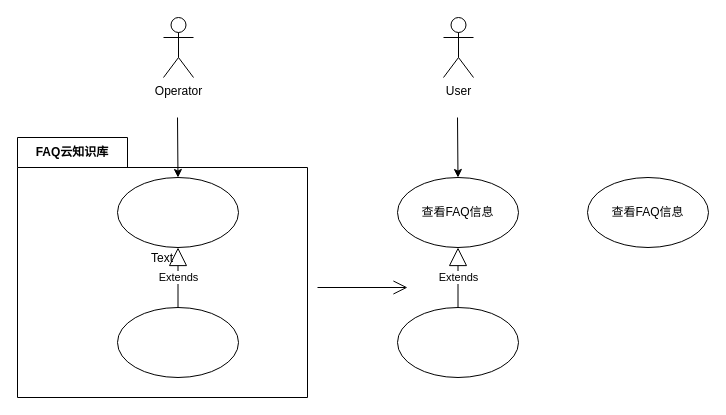
The diagram is 726 pixels wide and 415 high, and some of its shapes have lost their labels. The box of each missing label's shape, as (x1, y1, x2, y2) in pixels:
FAQ维护 （增删改查）: (116, 176, 238, 248)
富媒体文档维护 （增删改查）: (116, 306, 238, 378)
搜索FAQ: (396, 306, 518, 378)
